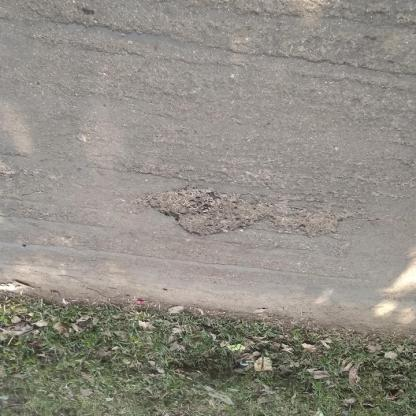pothole: (140, 188, 347, 243)
